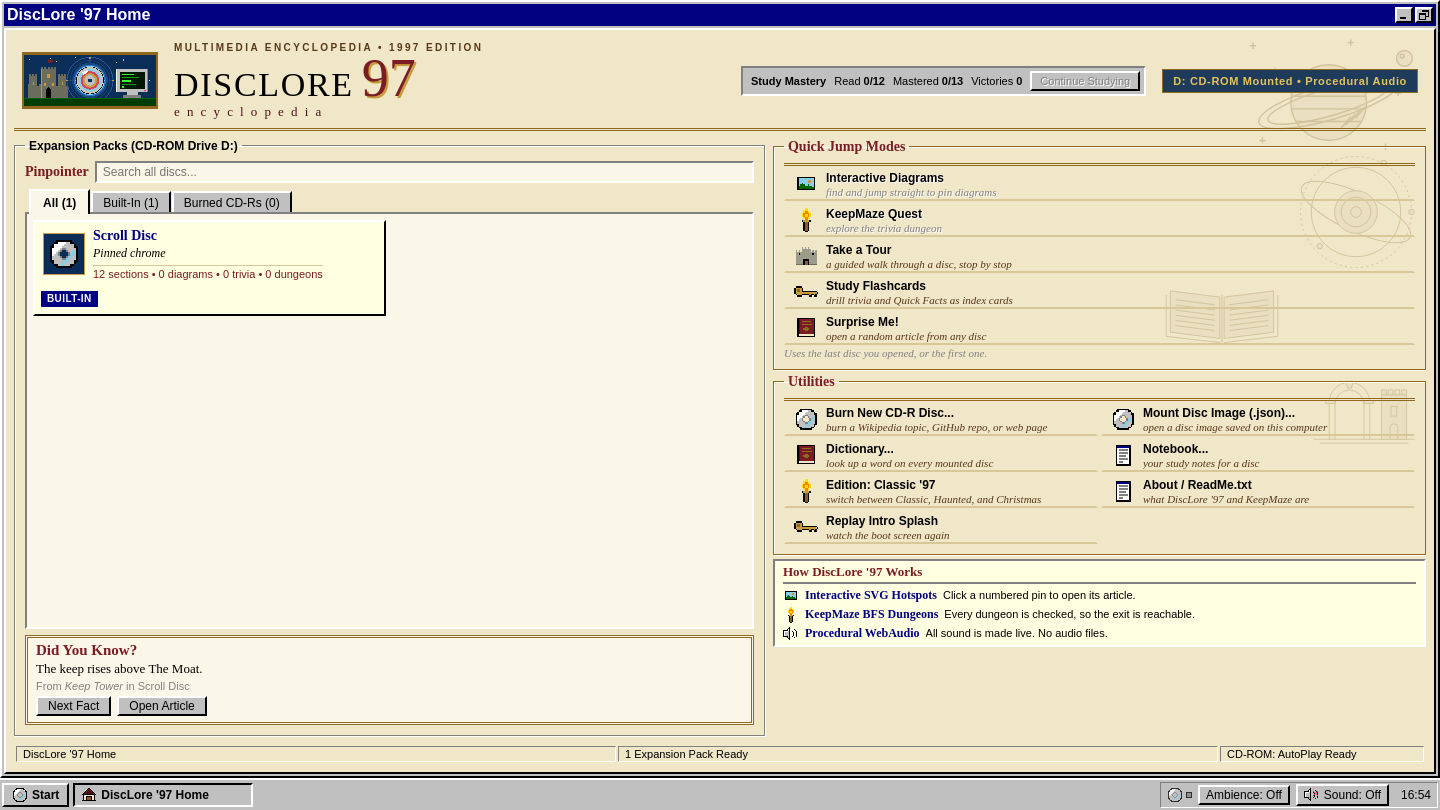
it: DiscBrowser scroll lock (CSS) › puts the sidebar and main pane inside the locked workspace, between the toolbar and the status bar
What coordinates should you click on to do the following:
click the text "Scroll Disc"
I would click on:
 (125, 236)
Its box is [93,228,157,244].
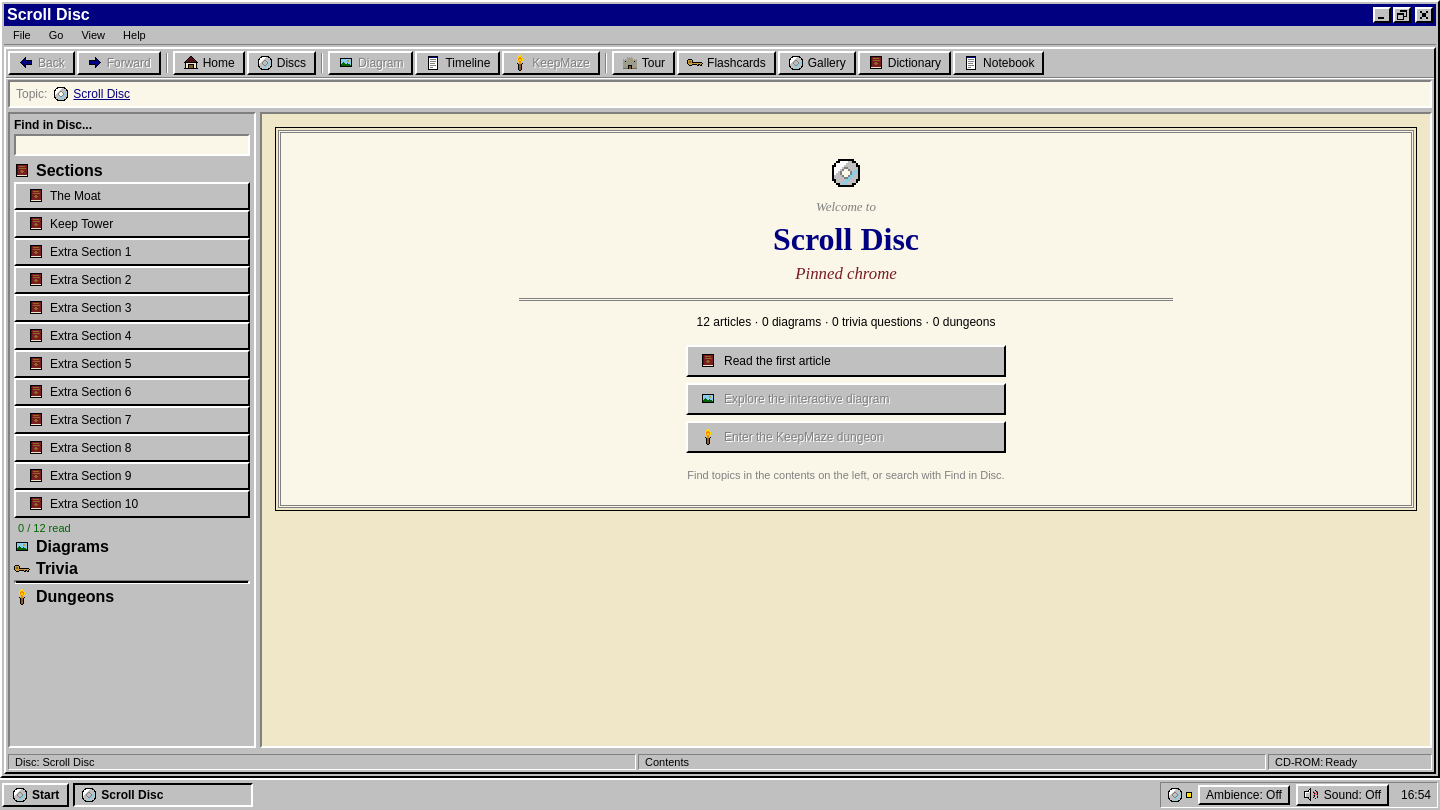
Expected: the element with class "window-title-bar" is shown, [104,8,1432,26]
Now the number of buttons "Extra Section 1" is 10
Now the element with class "window-menubar" is shown, box [104,26,1432,45]
